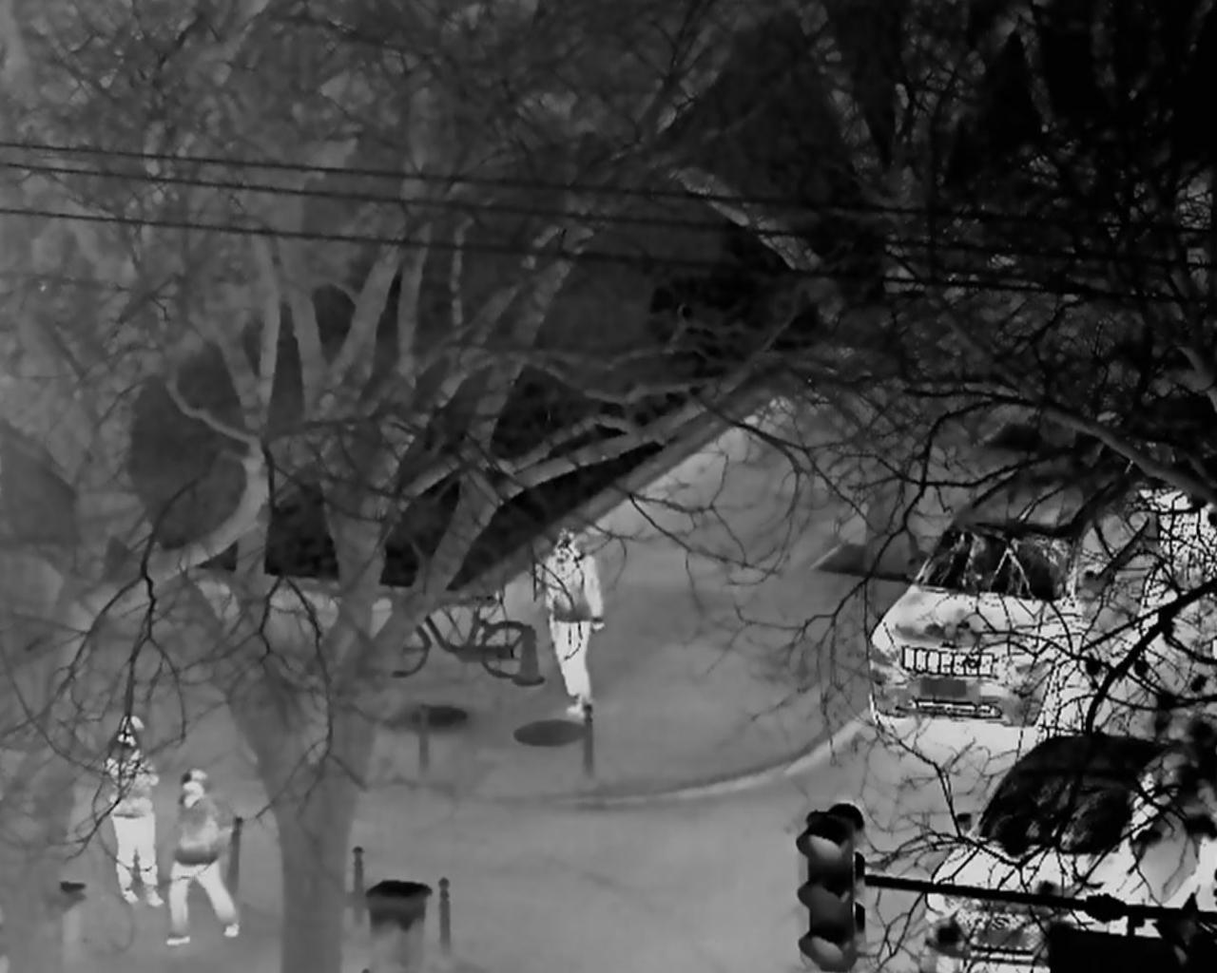person: (164, 768, 241, 946), (104, 715, 163, 909), (544, 528, 604, 715)
